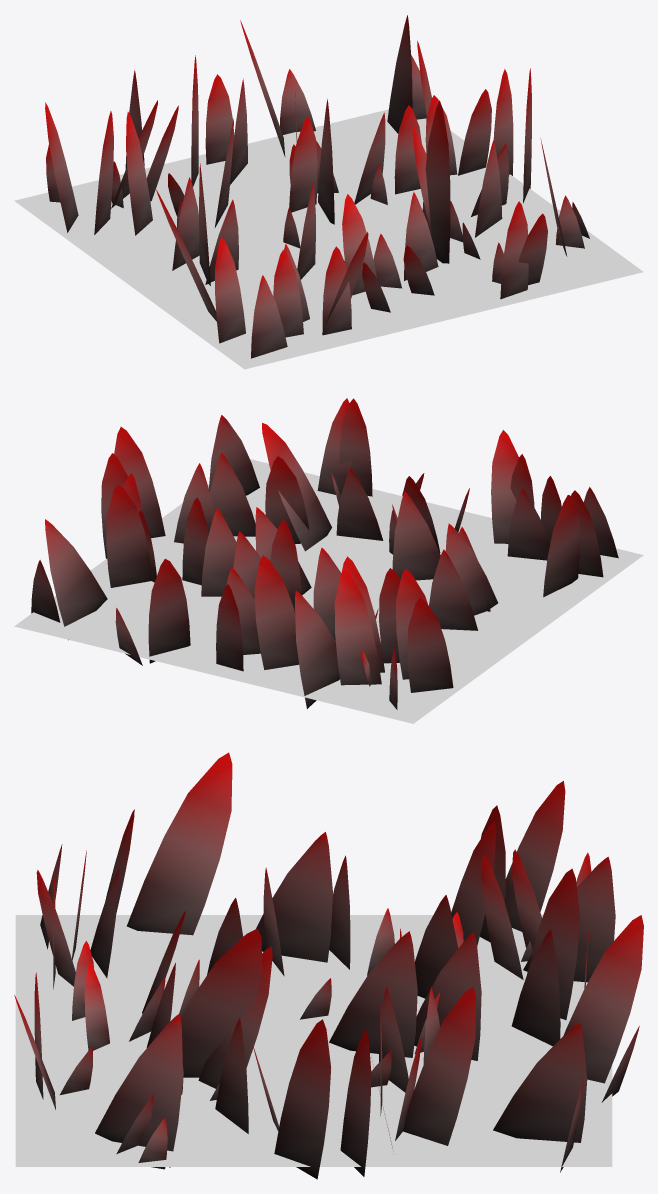
File: f_GrassTileModel_2.fbx
3 renders of one model, top to bottom at view 1: azimuth 30°, elevation 25°; view 2: azimuth 150°, elevation 25°; view 3: azimuth 270°, elevation 25°, orthographic. The views are drawn at different scales.
Visible parts, largest first — view 1: Grass.003, GrassGround.003; view 2: Grass.003, GrassGround.003; view 3: Grass.003, GrassGround.003.
Boxes of the visible parts, box(x1,y1,x2,y2) form: Grass.003: box(45, 15, 589, 358); GrassGround.003: box(14, 109, 643, 369); Grass.003: box(31, 398, 618, 709); GrassGround.003: box(14, 459, 643, 723); Grass.003: box(14, 752, 643, 1179); GrassGround.003: box(15, 915, 612, 1166).
Size of the model in its own units: 1.04 by 0.3451 by 1.06.
